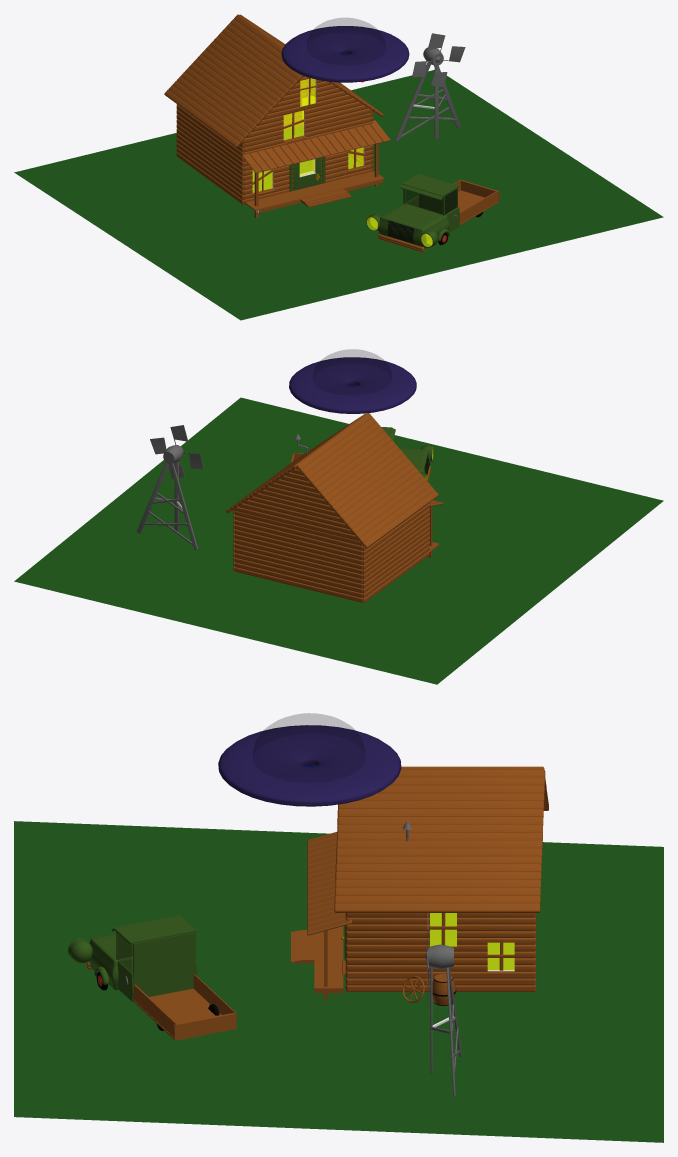
File: casa coraje.fbx
3 renders of one model, top to bottom at view 1: azimuth 30°, elevation 25°; view 2: azimuth 150°, elevation 25°; view 3: azimuth 270°, elevation 25°, orthographic. The views are drawn at different scales.
Parts seen in each view (by area): view 1: Plane, Torus_1, capo, Cube_2_6, Sphere_3, techo, Cube_17_3, Cube_9_7, Cube_15_3, Cube_6_11, Cube_12_6, Cube_3_12 (+20 smaller); view 2: Plane, Torus_1, Sphere_3, Cube_5_14, Cube_7_13, Cube_9_10, Cube_3_15, Cube_6_14, Cube_11_10, Cube_1_16, Cube_2_17, Cube_4_14 (+27 smaller); view 3: Plane, Torus_1, pated, Cube_0_7, Sphere_3, Cube_1_14, Cube_7_11, Cube_8_11, Cube_2_15, Cube_3_13, Cube_9_8, Cube_10_8 (+30 smaller).
Part boxes in pixels (x1,y1,x2,y2): Plane: (14,70,663,320); Torus_1: (281,26,409,80); capo: (377,203,449,248); Cube_2_6: (245,171,384,210); Sphere_3: (307,18,385,48); techo: (402,173,459,196); Cube_17_3: (164,89,240,147); Cube_9_7: (197,54,273,111); Cube_15_3: (172,81,248,138); Cube_6_11: (209,41,285,98); Cube_12_6: (185,67,260,125); Cube_3_12: (222,28,297,85); Plane: (14,397,663,684); Torus_1: (289,357,416,412); Sphere_3: (313,349,391,379); Cube_5_14: (235,543,362,579); Cube_7_13: (235,534,362,569); Cube_9_10: (235,524,362,560); Cube_3_15: (235,553,362,588); Cube_6_14: (235,539,362,574); Cube_11_10: (235,515,362,550); Cube_1_16: (235,562,362,597); Cube_2_17: (235,557,362,593); Cube_4_14: (235,548,362,583); Plane: (14,821,663,1142); Torus_1: (218,725,401,804); pated: (133,932,195,998); Cube_0_7: (334,903,540,912); Sphere_3: (253,713,365,757); Cube_1_14: (334,895,540,904); Cube_7_11: (336,848,542,856); Cube_8_11: (336,840,542,848); Cube_2_15: (335,887,540,896); Cube_3_13: (335,879,540,888); Cube_9_8: (337,832,542,841); Cube_10_8: (337,824,542,833).
Size of the model in its own units: 1126 by 481 by 1045.
